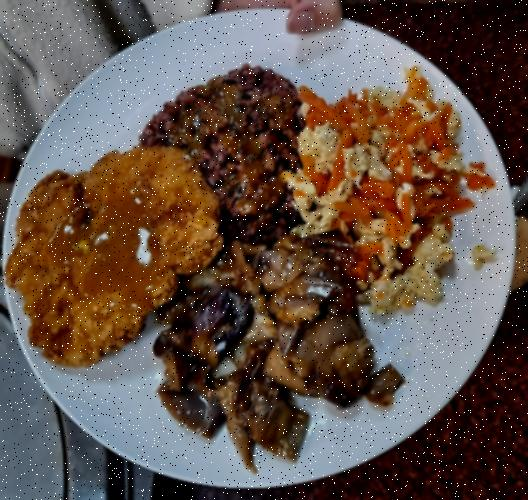kara chicken leg steak: (4, 132, 218, 370)
plate: (0, 13, 528, 484)
side dish: (155, 233, 380, 465), (295, 74, 466, 310), (135, 59, 311, 244)
